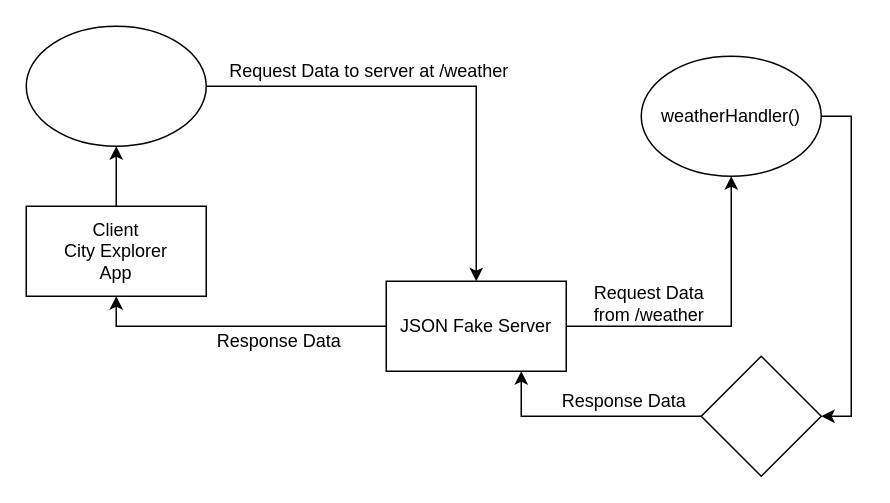
Image size: 890x503. Some labels were removed from this diagram. The shapes that lost their labels are listed below. From the top down, each one's centre as x and y in pixels, then its label:
At [115,85]: "getCityWeather()".
At [760,415]: "JSON data".
